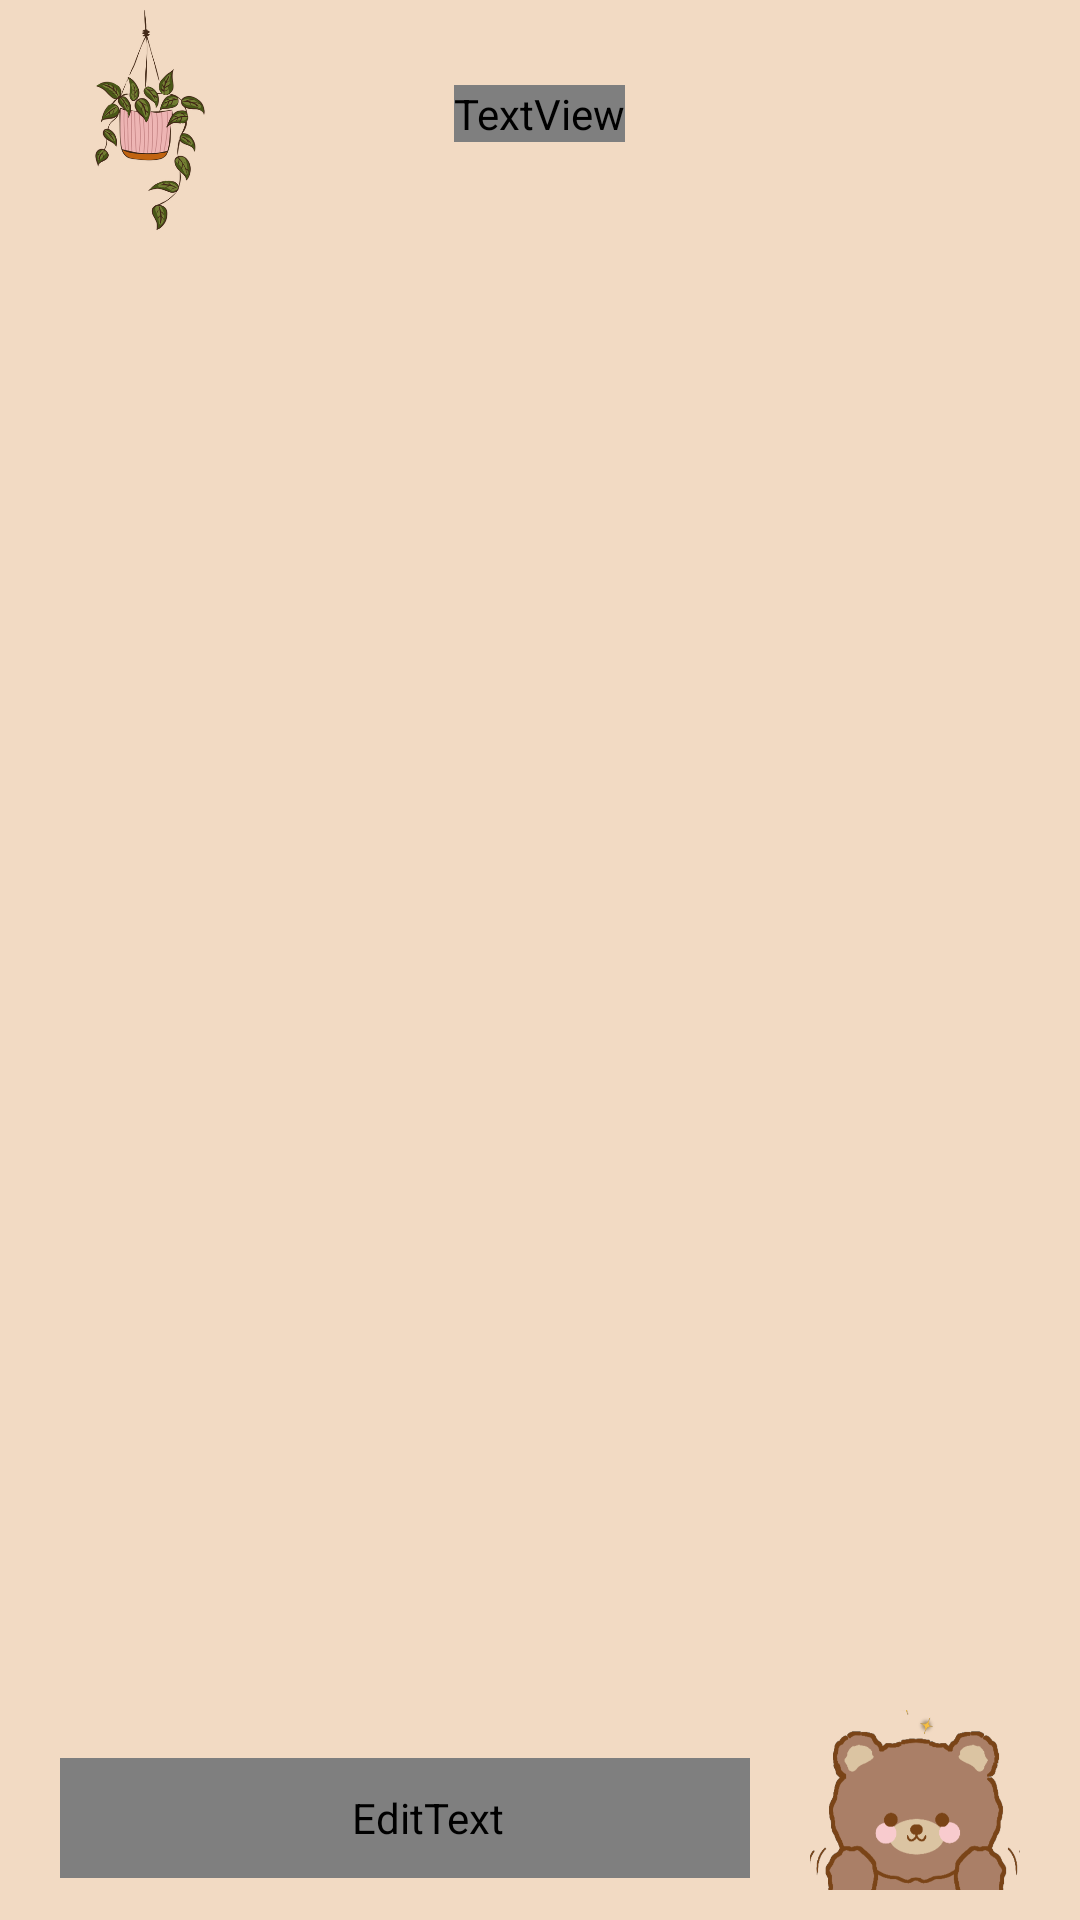

Icons on this 1080 × 1920 Android screen, each with its box as (x1, y1, x2, y2):
plant: (95, 10, 205, 230)
